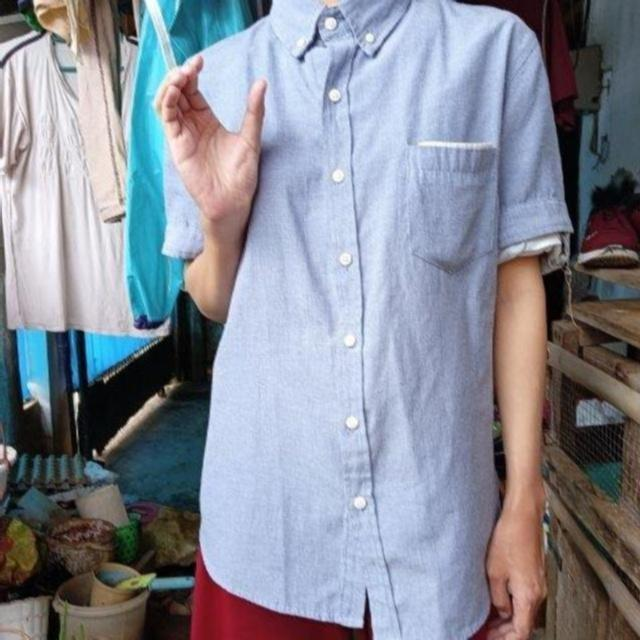U: (150, 48, 284, 222)
